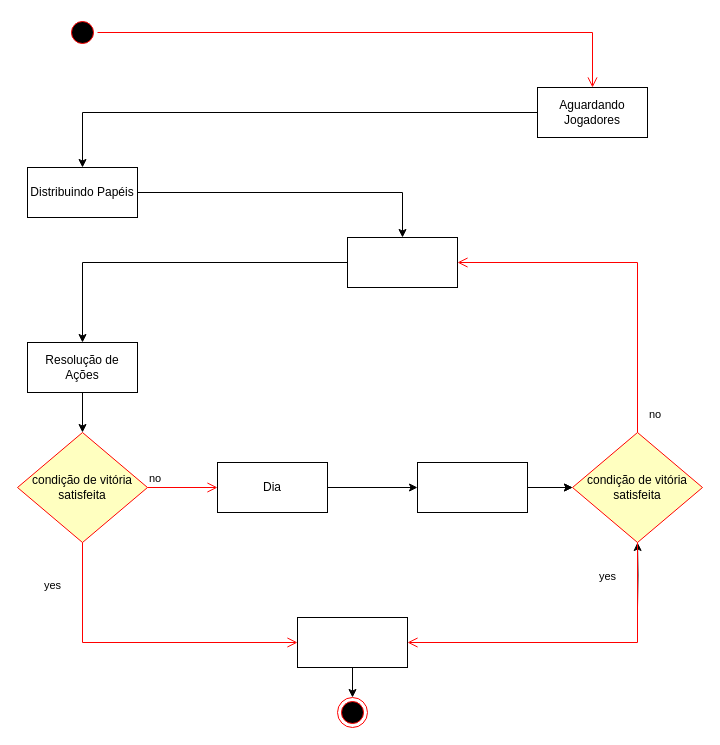
Image size: 720x745. Some labels were removed from this diagram. Here are the shapes that lost their labels. From the top down, the centre of each, then its label:
the point at 402,262: Noite
the point at 472,487: Votação
the point at 352,642: Finalizada
